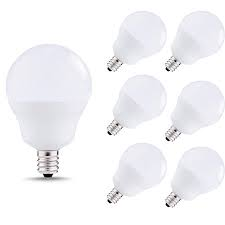bulb: (3, 39, 95, 166), (101, 6, 168, 71), (108, 143, 167, 209), (109, 75, 170, 138), (164, 8, 224, 72), (168, 77, 225, 143), (169, 147, 225, 213)
